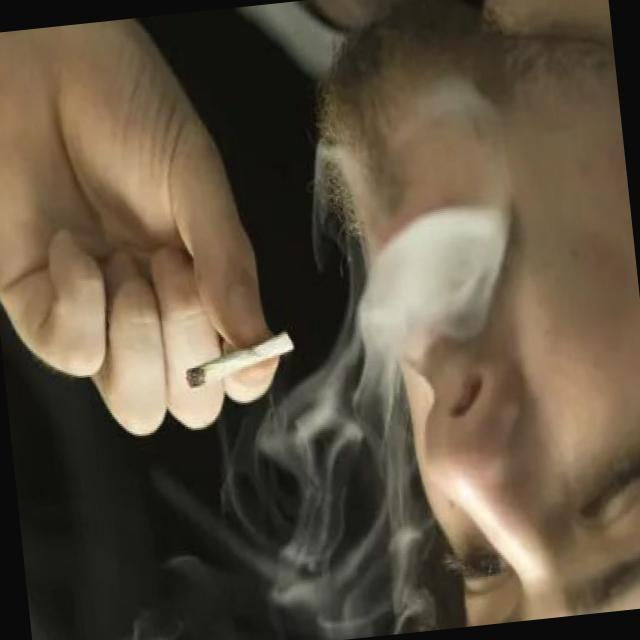smoke: (180, 318, 300, 396)
